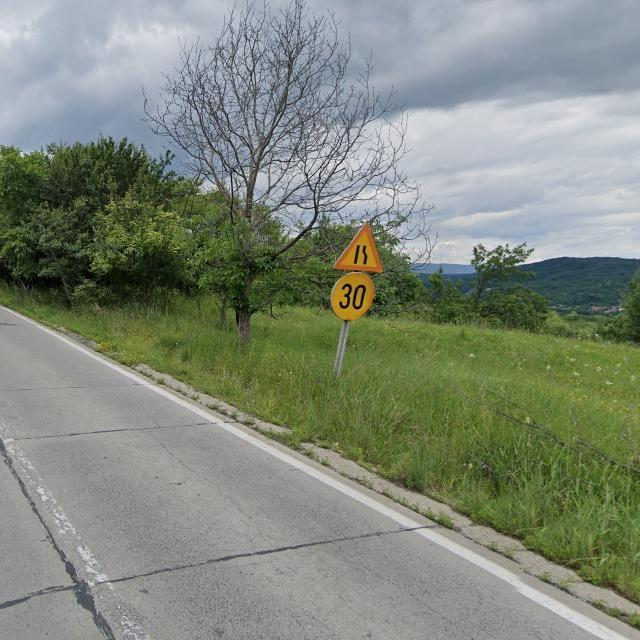forb_speed_over_30: (330, 271, 374, 320)
